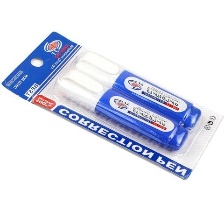book: (0, 30, 224, 181)
correction_fluid: (53, 66, 190, 150), (72, 50, 203, 135)
